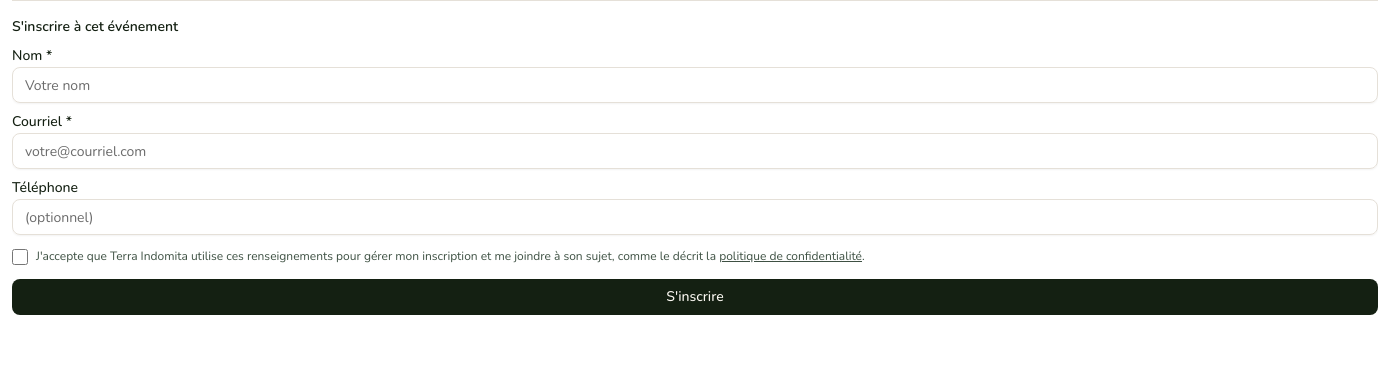
Test: RegistrationForm › shows validation error when name is empty
Step 1. Click the button "S'inscrire" → click(695, 296), box [12,278,1378,314]
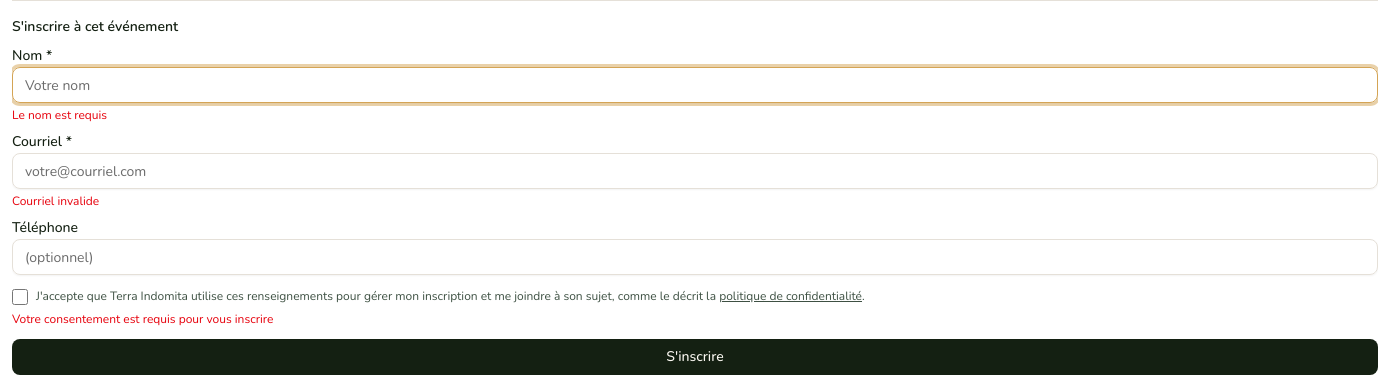
Expected: the text "Le nom est requis" is shown, [12,107,107,123]
